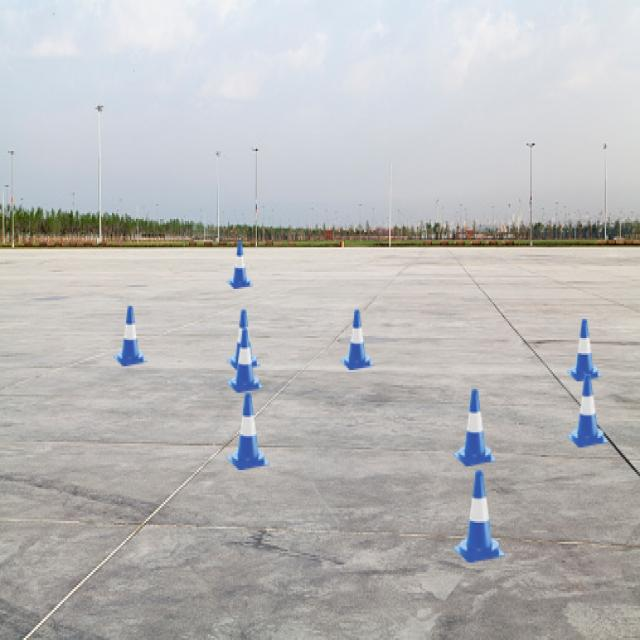blue_cone: (454, 470, 505, 563), (227, 393, 270, 470), (454, 389, 496, 466), (567, 374, 608, 447), (227, 328, 263, 392), (567, 319, 602, 381), (227, 310, 261, 370), (114, 306, 148, 366), (340, 310, 374, 370), (227, 242, 253, 289)
